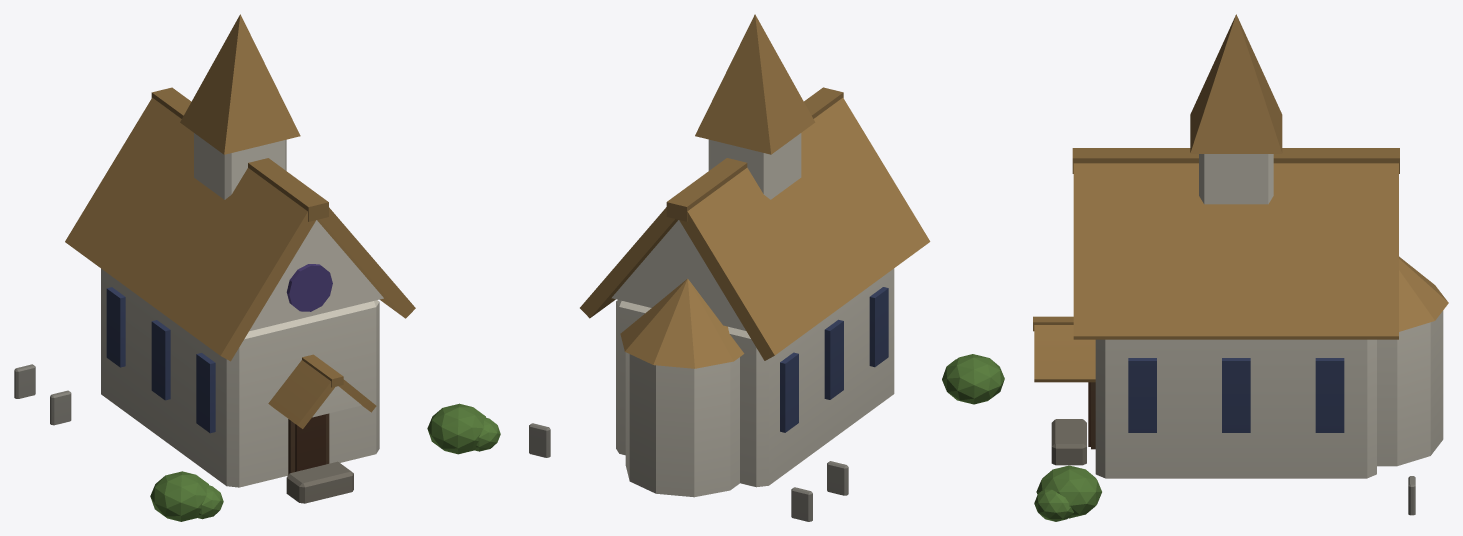
File: chapel.glb
The picture shows the model from 3 angles, left to right: view 1: azimuth 30°, elevation 25°; view 2: azimuth 150°, elevation 25°; view 3: azimuth 270°, elevation 25°; orthographic projection. The views are drawn at different scales.
Parts seen in each view (by area): view 1: chapel_model; view 2: chapel_model; view 3: chapel_model.
Part boxes in pixels (x1=…): chapel_model: x1=14, y1=14, x2=500, y2=521; chapel_model: x1=529, y1=14, x2=1004, y2=521; chapel_model: x1=1033, y1=14, x2=1448, y2=521.
Bounding box in the file's own units: 0.9177 × 1.09 × 0.9389.
